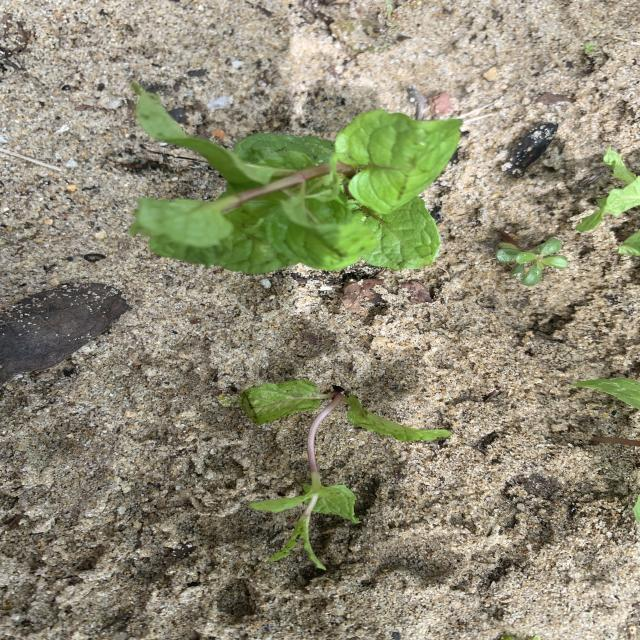crop: (130, 82, 461, 273), (237, 380, 451, 571), (576, 149, 640, 232)
weed: (495, 231, 568, 286)
